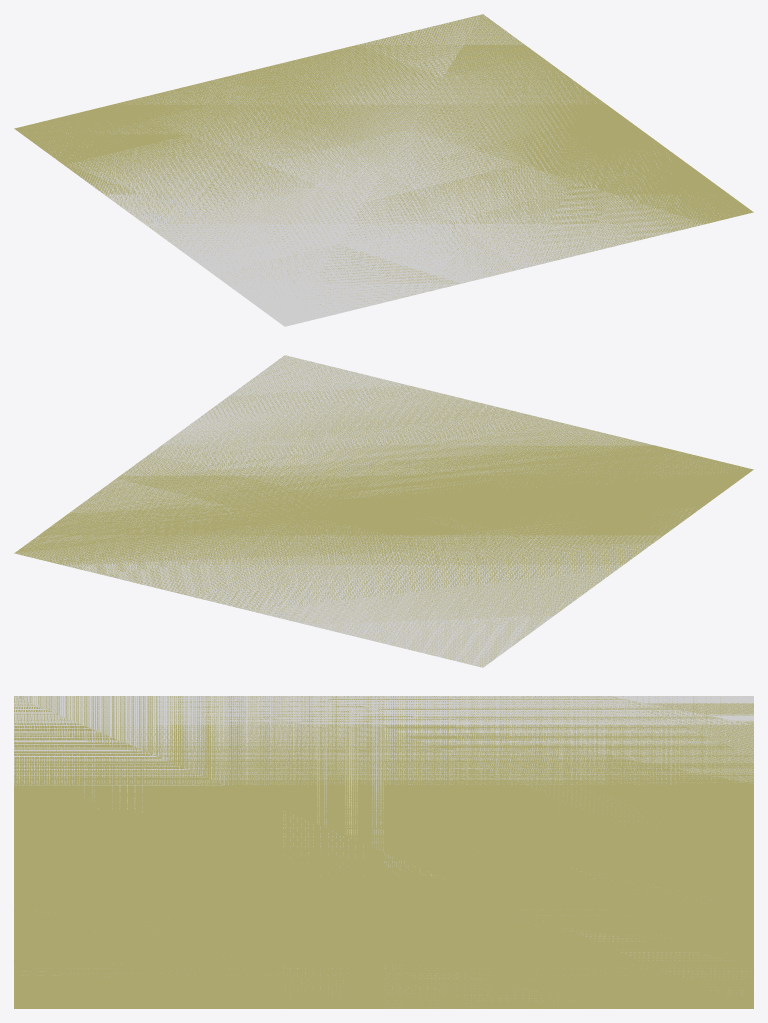
The model's file is map.dae.
3 views of the same model, one above another, from view 1: azimuth 30°, elevation 25°; view 2: azimuth 150°, elevation 25°; view 3: azimuth 270°, elevation 25° (orthographic). The views are drawn at different scales.
Parts seen in each view (by area): view 1: Map_001, Map; view 2: Map_001, Map; view 3: Map_001, Map.
Boxes of the visible parts, x1,y1,x2,y2 form: Map_001: [14, 14, 753, 312]; Map: [27, 15, 738, 326]; Map_001: [14, 355, 753, 666]; Map: [15, 355, 741, 667]; Map_001: [14, 696, 753, 1008]; Map: [14, 696, 753, 998].
Bounding box in the file's own units: 1787 × 1787 × 204.
